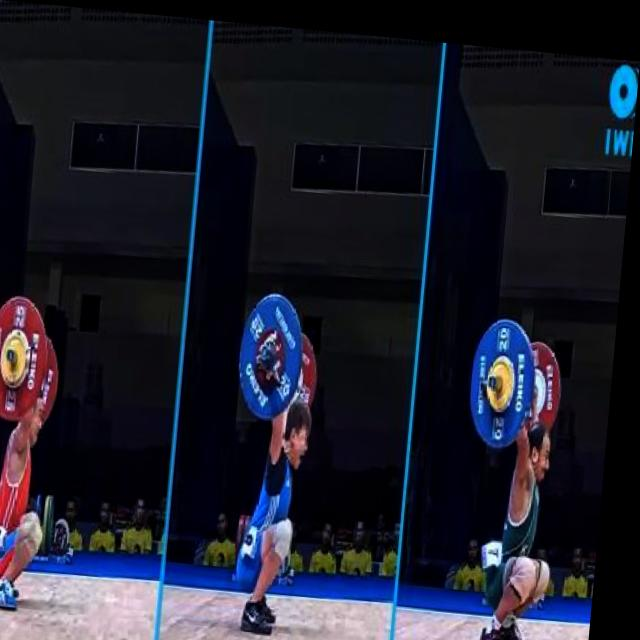barbell: (236, 281, 317, 420), (469, 302, 546, 441), (1, 288, 62, 422)
